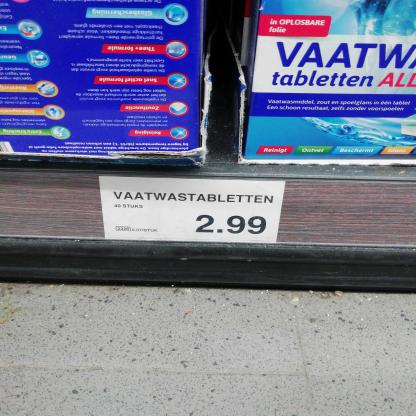prtg: (99, 177, 286, 245)
